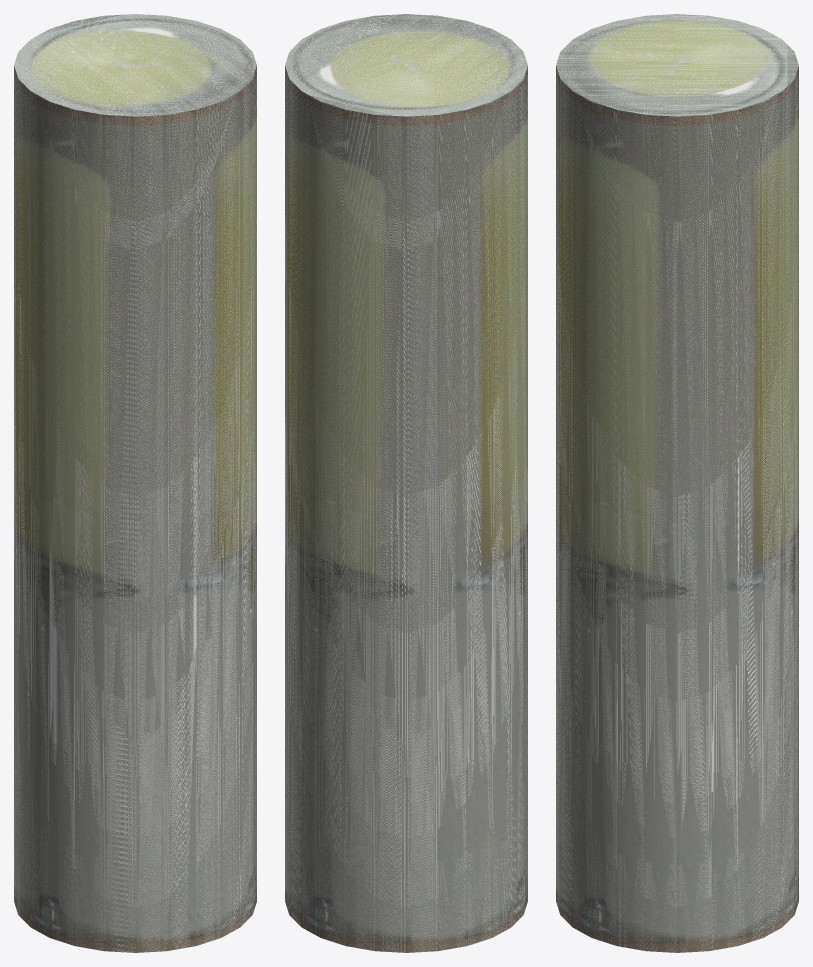
File: candle.dae
3 renders of one model, left to right at view 1: azimuth 30°, elevation 25°; view 2: azimuth 150°, elevation 25°; view 3: azimuth 270°, elevation 25°, orthographic.
Parts seen in each view (by area): view 1: SketchUp (×2); view 2: SketchUp (×2); view 3: SketchUp (×2).
Boxes of the visible parts, left/top/right/bottom form: SketchUp (×2): left=14, top=14, right=256, bottom=952; SketchUp (×2): left=285, top=14, right=527, bottom=952; SketchUp (×2): left=556, top=14, right=798, bottom=952.
Bounding box in the file's own units: 0.1 × 0.1 × 0.38.
Materials: 4 (2 with a texture image).
